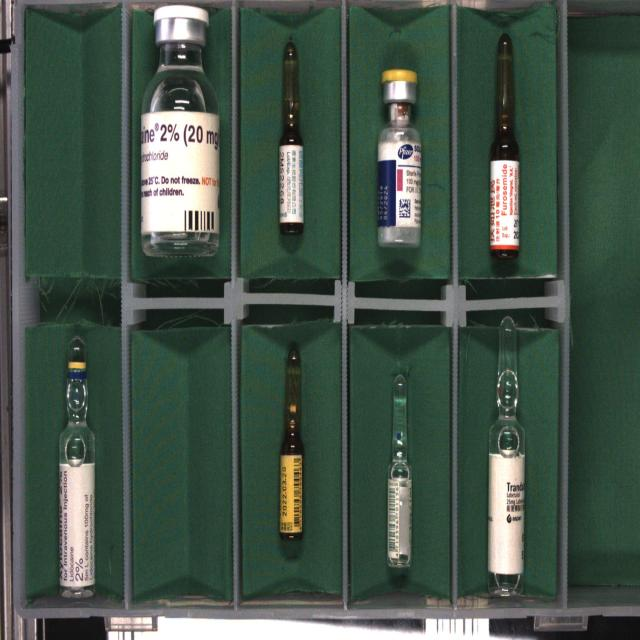Vials: (141, 5, 220, 258), (377, 70, 421, 247)
